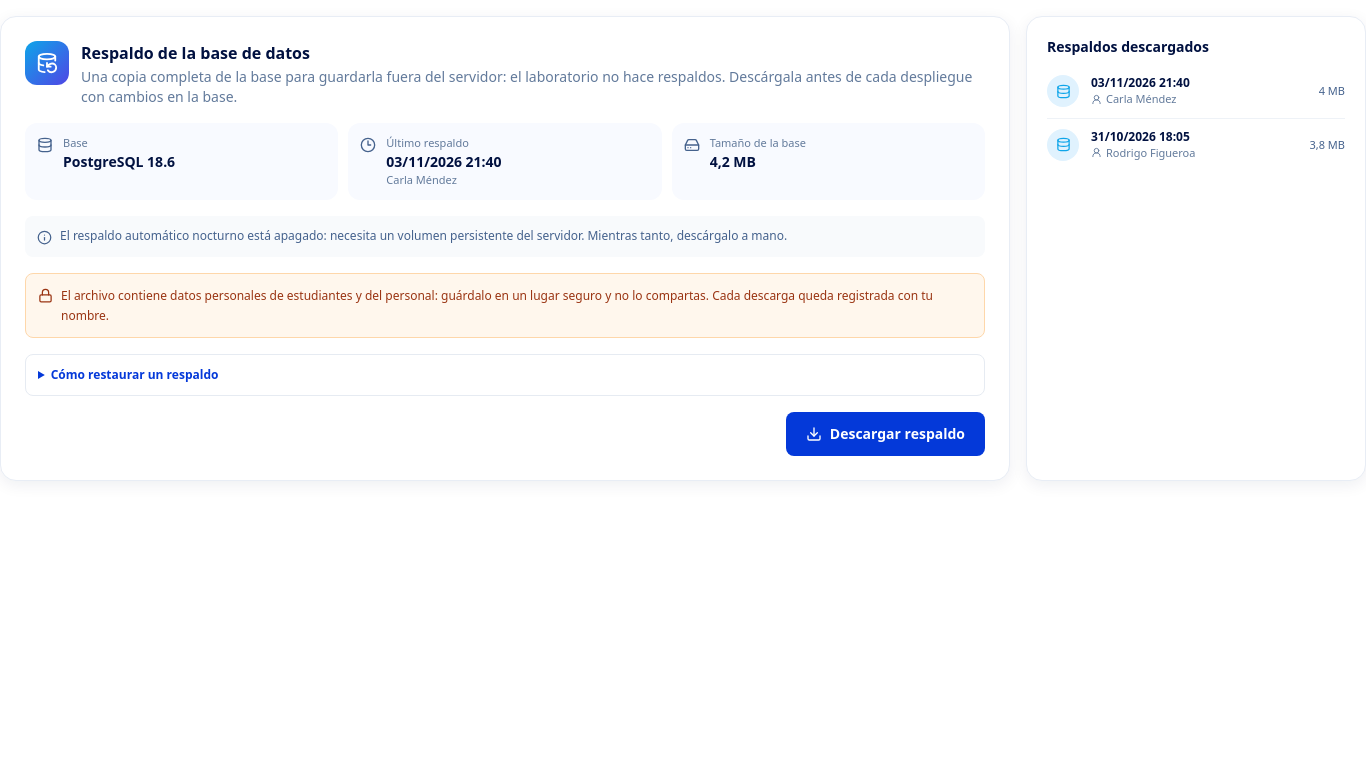
IMP-10: el ADMIN descarga el respaldo, ve el nombre del archivo y se actualiza el historial
Expected: the text "PostgreSQL 18.6" is shown, 63,152 -> 175,172
Click the button "Descargar respaldo".
click(885, 434)  # box 786,412 -> 985,456
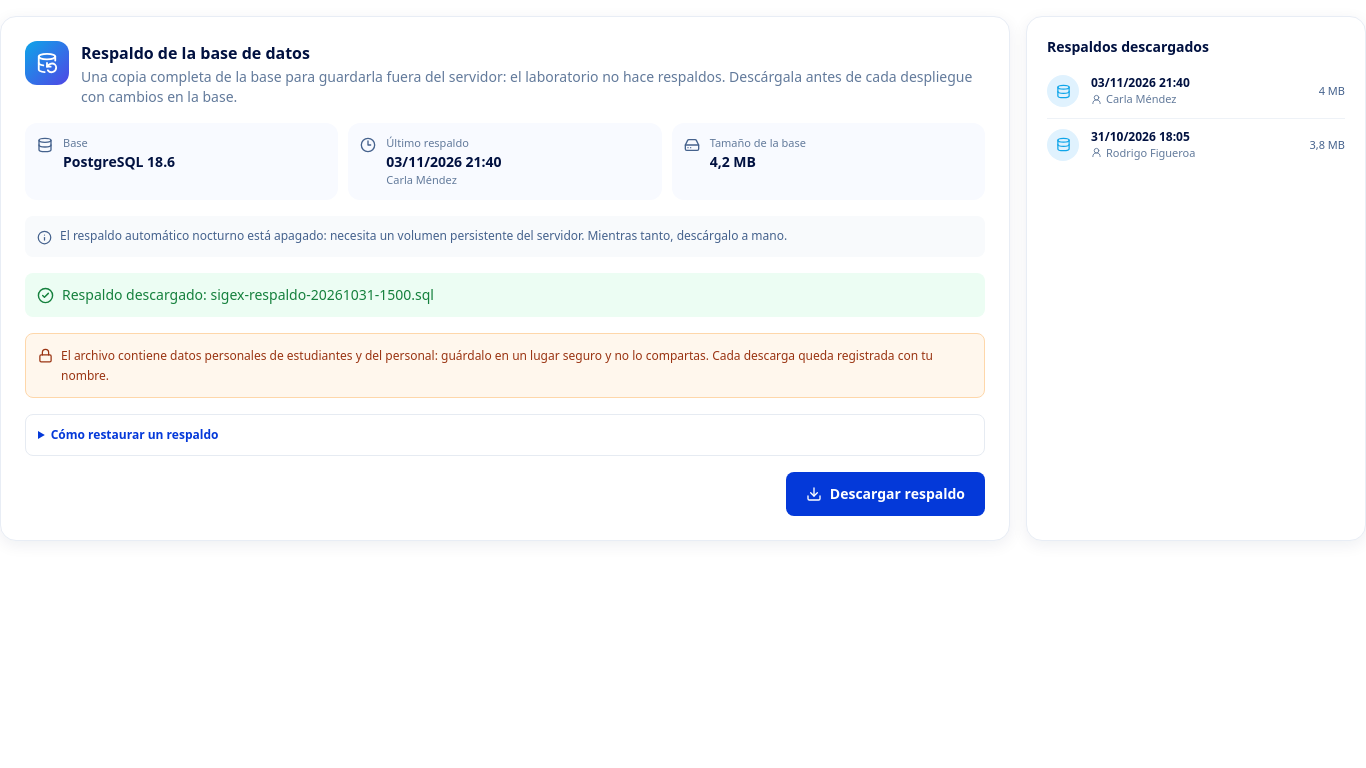
Expected: the text "Respaldo descargado: sigex-respaldo-20261031-1500.sql" is shown, 25,273 -> 985,317
